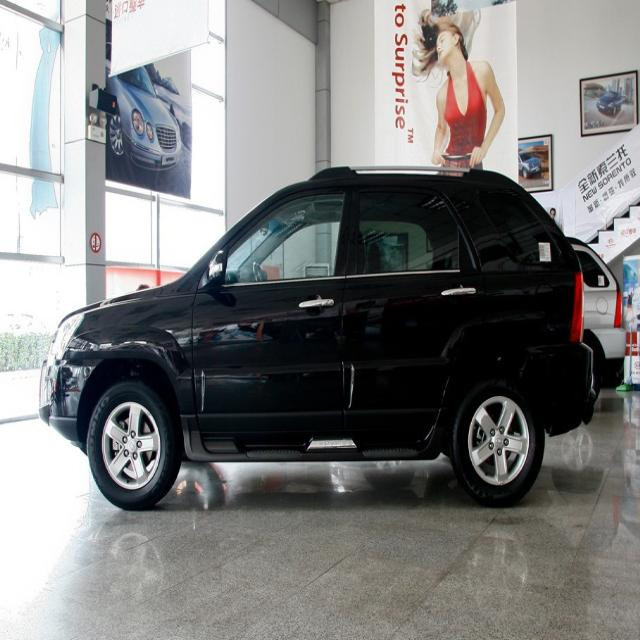back_left_side_light: (570, 268, 585, 346)
door: (350, 180, 476, 442)
front_bumper: (40, 355, 87, 454)
front_left_side_door: (190, 177, 356, 448)
front_left_side_light: (50, 312, 85, 363)
front_left_side_mirror: (207, 247, 227, 287)
rear_bumper: (546, 345, 600, 431)
wheel: (454, 377, 545, 505), (88, 382, 177, 510)
